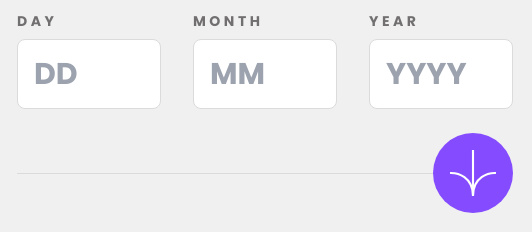
Test: BirthForm › should show an error message when year input is empty on submit
Type "3" into the field with placeholder "DD" at (89, 74), box [17,39,161,109]
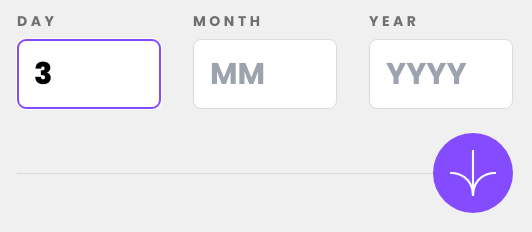
Type "10" into the field with placeholder "MM" at (265, 74), box [193,39,337,109]
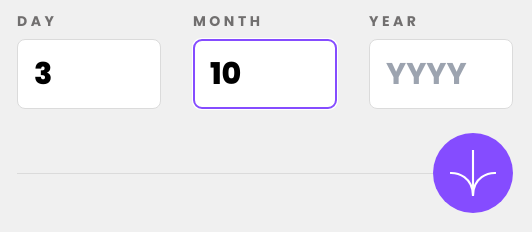
Click the button at (473, 173), box [433,133,513,213]
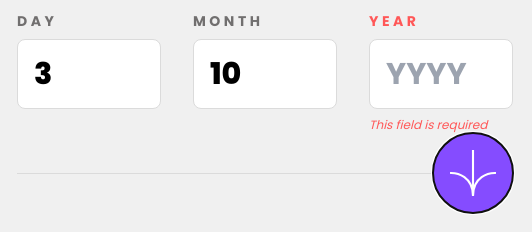
Result: the text "Insert four numbers" reads "This field is required" at [369,116,487,133]
